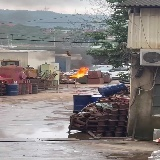fire: (68, 67, 88, 78)
